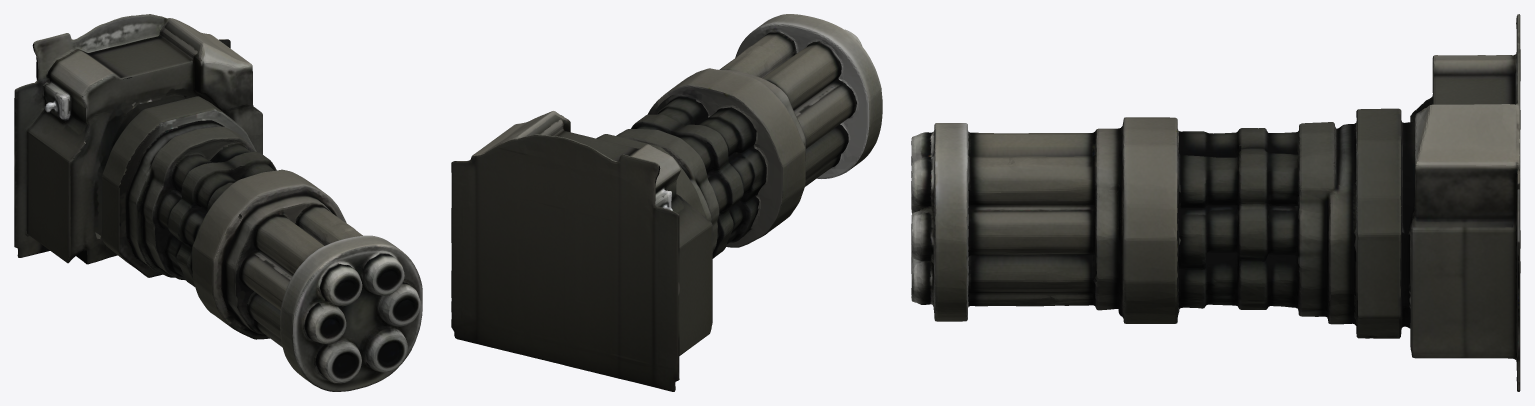
Rendered from Gun.glb.
The picture shows the model from 3 angles, left to right: view 1: azimuth 30°, elevation 25°; view 2: azimuth 150°, elevation 25°; view 3: azimuth 270°, elevation 25°; orthographic projection. The views are drawn at different scales.
Visible parts, largest first — view 1: tmpj6v8bfj2.ply; view 2: tmpj6v8bfj2.ply; view 3: tmpj6v8bfj2.ply.
Part boxes in pixels (box(x1,y1,x2,y2)): tmpj6v8bfj2.ply: box(14, 14, 422, 391); tmpj6v8bfj2.ply: box(451, 14, 882, 391); tmpj6v8bfj2.ply: box(911, 14, 1520, 391).
Bounding box in the file's own units: 0.997 × 0.9526 × 1.97.
Materials: 1 (1 with a texture image).
